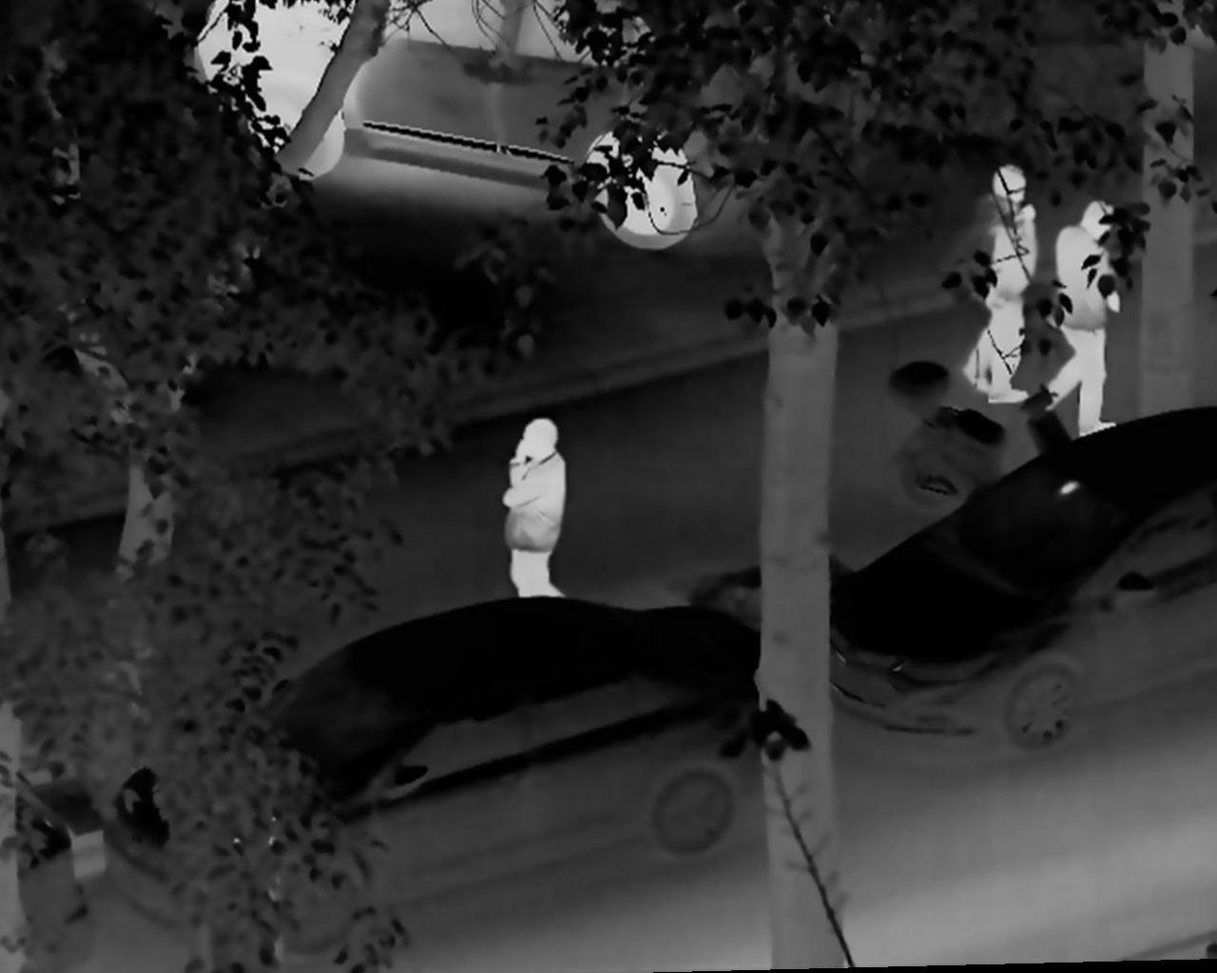person: (1041, 197, 1125, 439), (957, 159, 1037, 411), (502, 414, 570, 603)
